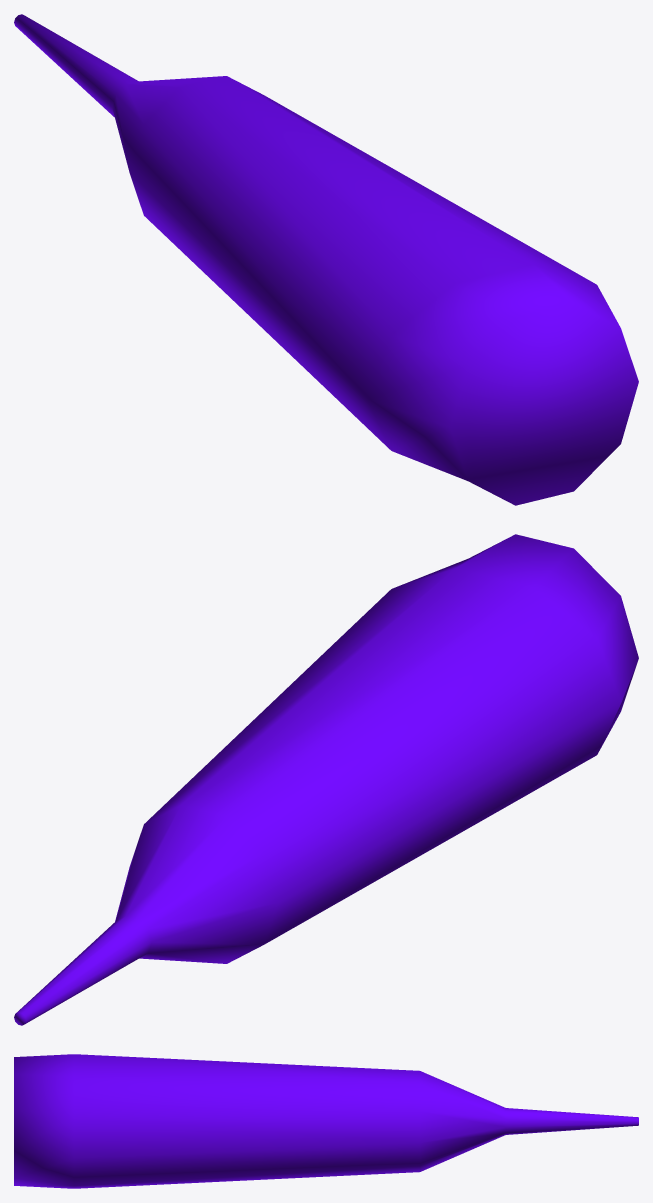
The model's file is hospital_staff_syringe_big_1_meshCollider.fbx.
The picture shows the model from 3 angles, top to bottom: view 1: azimuth 30°, elevation 25°; view 2: azimuth 150°, elevation 25°; view 3: azimuth 270°, elevation 25°; orthographic projection. The views are drawn at different scales.
Parts seen in each view (by area): view 1: hospital_staff_syringe_big_1_meshCollider; view 2: hospital_staff_syringe_big_1_meshCollider; view 3: hospital_staff_syringe_big_1_meshCollider.
Part boxes in pixels (box(x1,y1,x2,y2)): hospital_staff_syringe_big_1_meshCollider: box(14, 14, 638, 505); hospital_staff_syringe_big_1_meshCollider: box(14, 534, 638, 1025); hospital_staff_syringe_big_1_meshCollider: box(14, 1054, 638, 1188).
Bounding box in the file's own units: 5.55 × 3.91 × 19.82.
